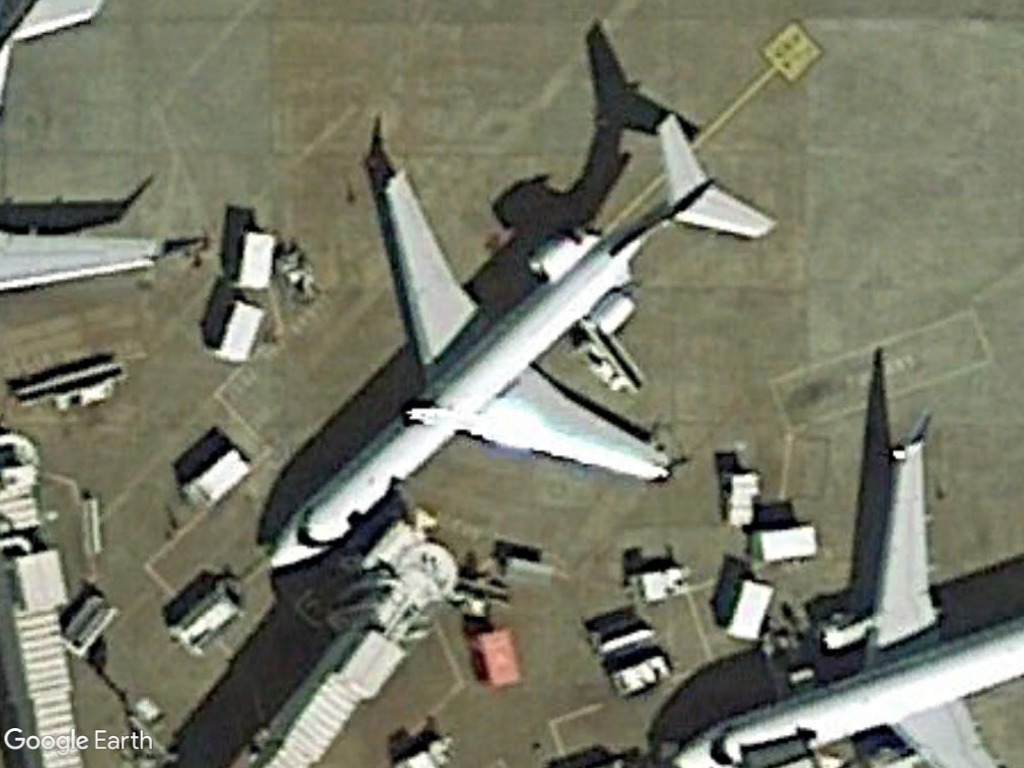chartered: (254, 113, 775, 584)
